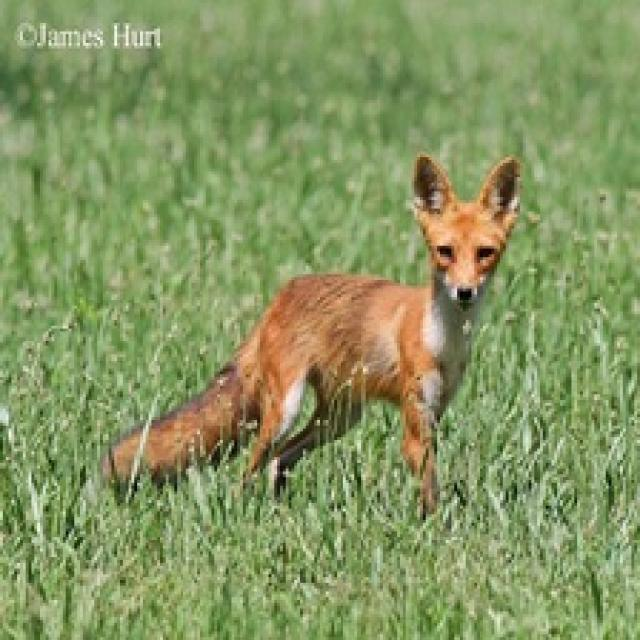fox: (88, 142, 530, 528)
